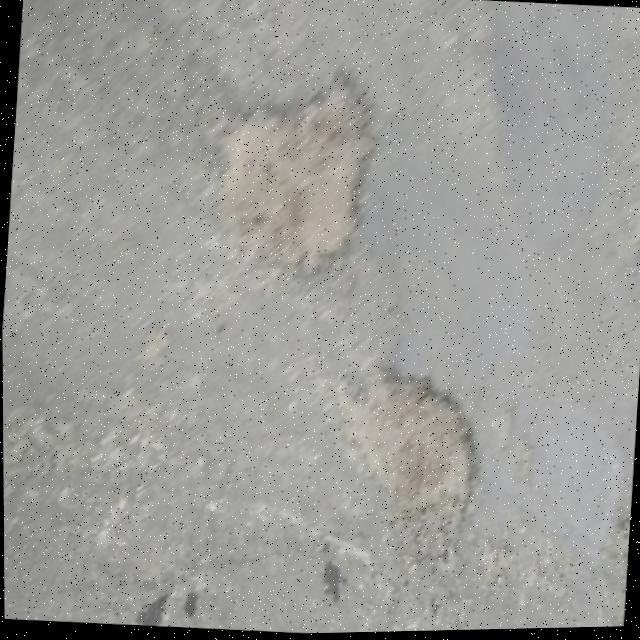Pothole: (201, 51, 391, 295), (319, 355, 490, 554), (597, 483, 632, 630)
